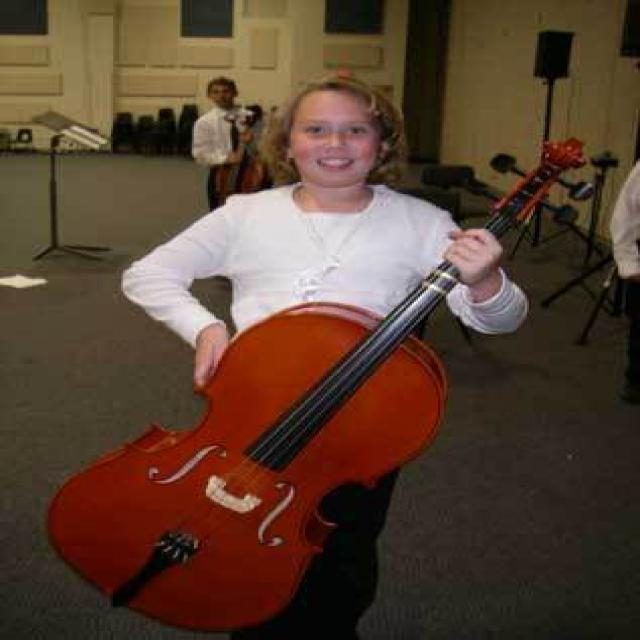cello: (43, 133, 596, 635), (210, 96, 270, 203)
